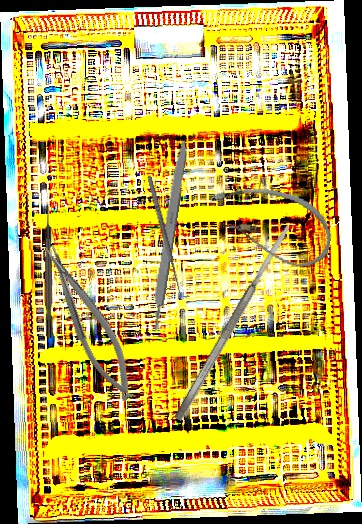Cannula: (200, 177, 339, 273)
Hook Surgical: (145, 173, 190, 301), (45, 204, 52, 338)
Needle Holder: (37, 236, 143, 408)
Scalpel Handle: (146, 135, 191, 332)
Spatula Surgical: (172, 223, 294, 423)
